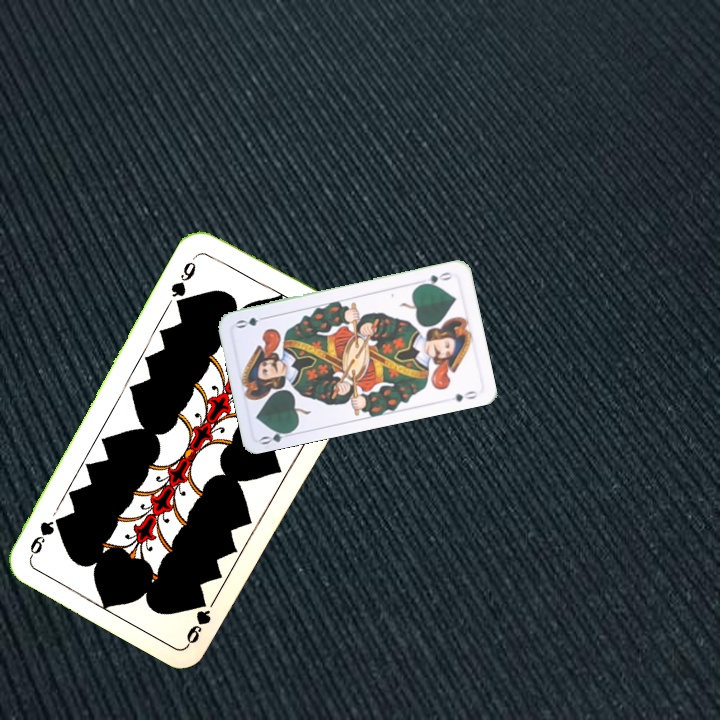G9: (166, 250, 201, 307), (182, 596, 214, 647)
GO: (256, 425, 297, 447), (416, 268, 456, 288)
